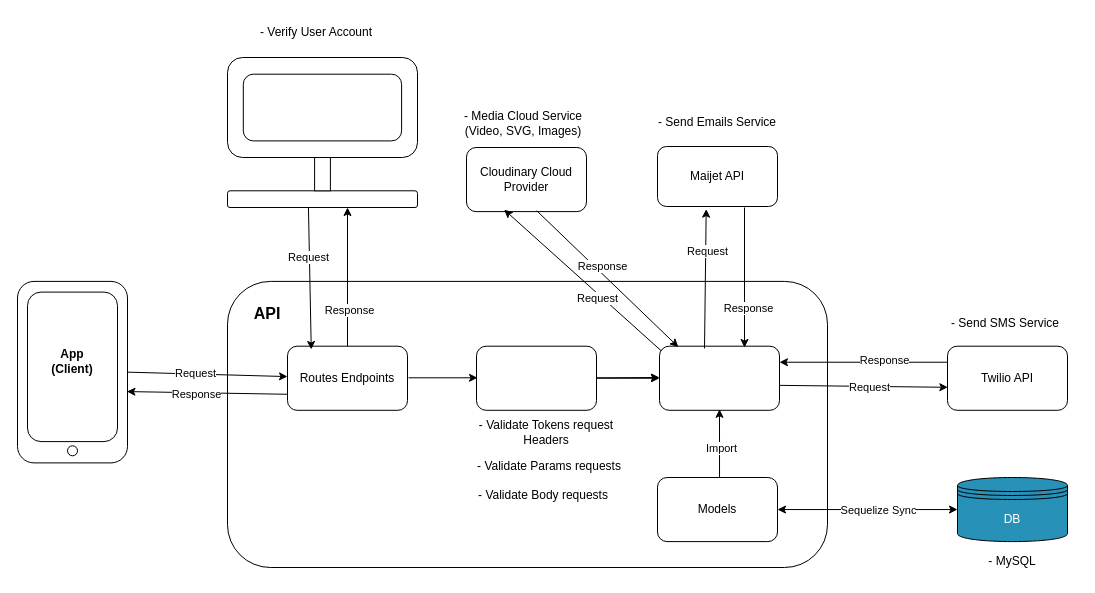
Image size: 1095x593. Some labels were removed from this diagram. Here are the shapes that lost their labels. From the top down, the box of each, then its label:
(242, 73, 402, 141): Web (Client)
(476, 345, 596, 410): Validators/ Middlewares
(658, 345, 780, 410): Controllers (CRUD)
